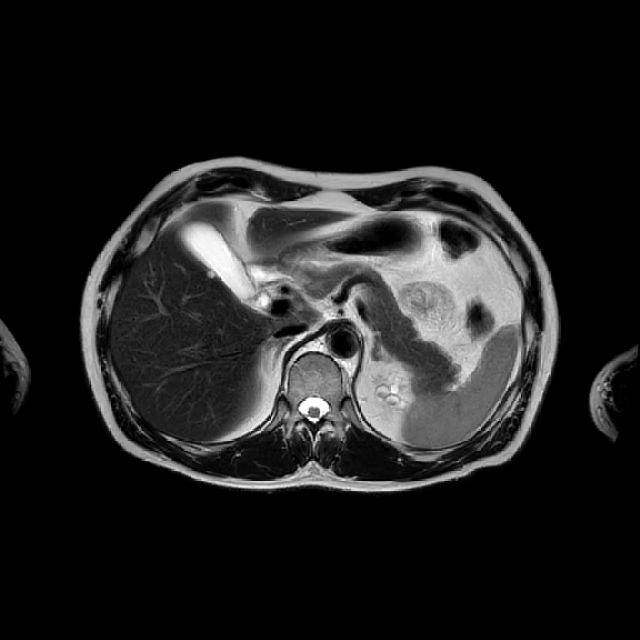sol: (376, 374, 413, 412)
